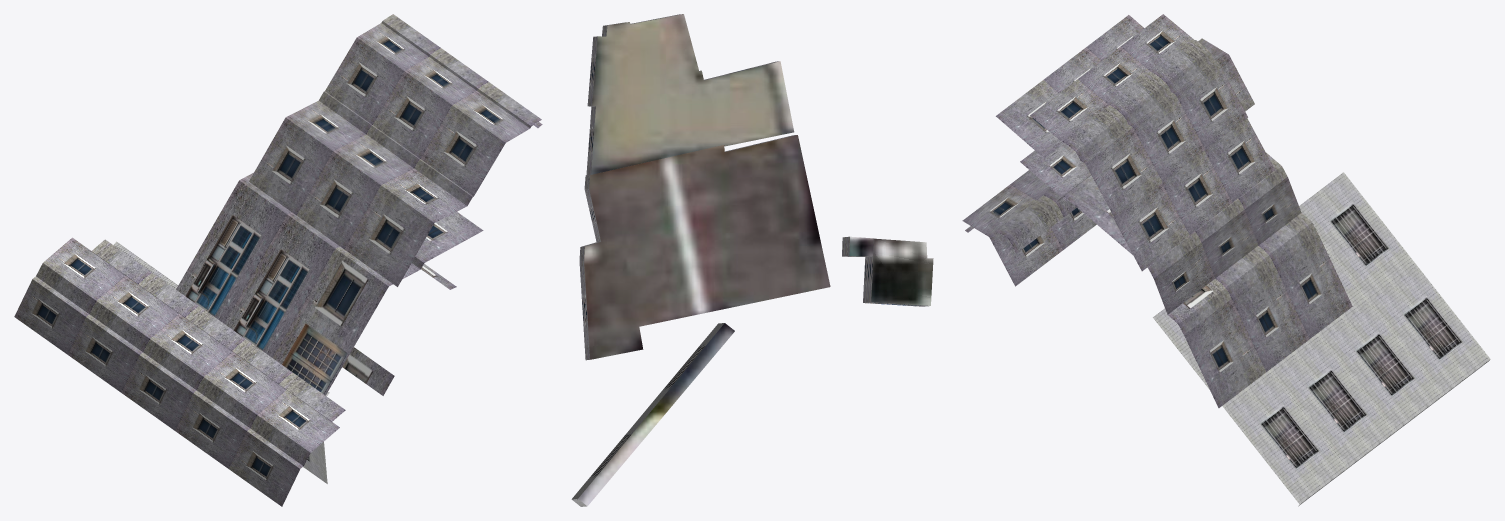
The picture shows the model from 3 angles, left to right: view 1: azimuth 30°, elevation 25°; view 2: azimuth 150°, elevation 25°; view 3: azimuth 270°, elevation 25°; orthographic projection. The views are drawn at different scales.
Size of the model in its own units: 25.87 by 27.82 by 28.14.
22 materials, 22 textured.
